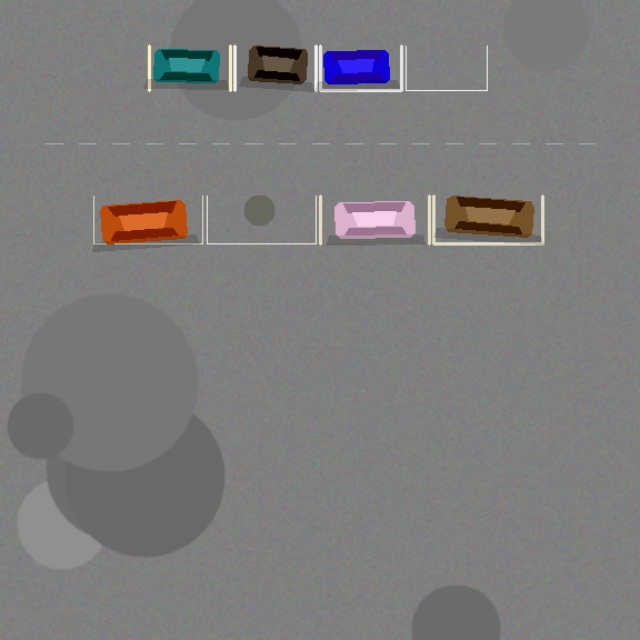space-empty: (207, 196, 316, 243), (406, 46, 487, 90)
space-occupied: (93, 196, 202, 243), (320, 196, 429, 243), (433, 196, 542, 243), (234, 46, 316, 90), (149, 46, 230, 90), (320, 46, 401, 90)
